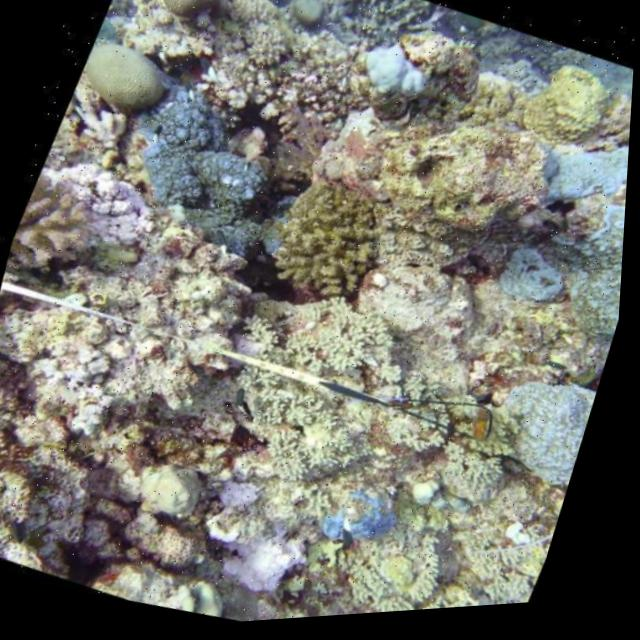Bleached Coral: (227, 291, 439, 501), (5, 127, 194, 287), (202, 504, 346, 618), (325, 21, 442, 126), (187, 452, 283, 524)
